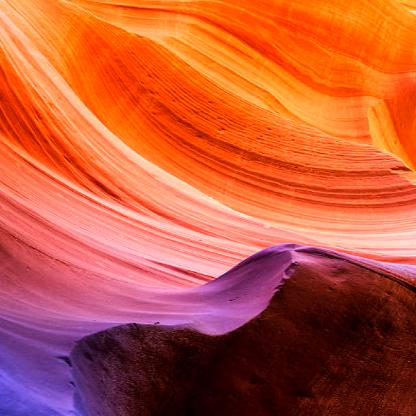Sedimentary_Sandstone: (58, 244, 415, 415)
